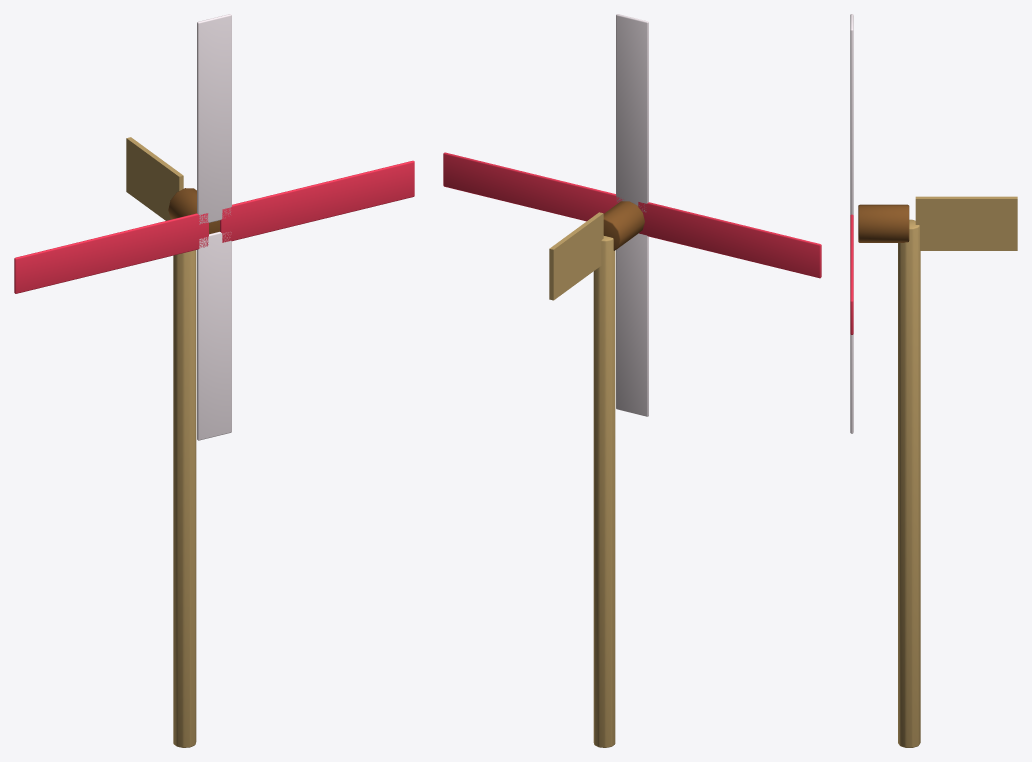
The model's file is kincir-angin.glb.
3 views of the same model, side by side, from view 1: azimuth 30°, elevation 25°; view 2: azimuth 150°, elevation 25°; view 3: azimuth 270°, elevation 25° (orthographic). The views are drawn at different scales.
Parts seen in each view (by area): view 1: Cylinder, Cube.002, Cube, Cube.001, Cube.003, Cube.004, Cylinder.001; view 2: Cylinder, Cube.002, Cube.001, Cube, Cube.003, Cube.004, Cylinder.001; view 3: Cylinder, Cube.004, Cylinder.001, Cube.001, Cube, Cube.003.
Part boxes in pixels (x1=…): Cylinder: x1=173, y1=250, x2=196, y2=747; Cube.002: x1=14, y1=213, x2=208, y2=293; Cube: x1=220, y1=160, x2=414, y2=242; Cube.001: x1=197, y1=14, x2=231, y2=224; Cube.003: x1=197, y1=231, x2=231, y2=440; Cube.004: x1=126, y1=137, x2=183, y2=220; Cylinder.001: x1=168, y1=188, x2=219, y2=234; Cylinder: x1=593, y1=236, x2=615, y2=747; Cube.002: x1=638, y1=202, x2=821, y2=278; Cube.001: x1=616, y1=14, x2=648, y2=212; Cube: x1=443, y1=152, x2=623, y2=221; Cube.003: x1=616, y1=233, x2=648, y2=416; Cube.004: x1=549, y1=212, x2=603, y2=300; Cylinder.001: x1=603, y1=201, x2=644, y2=250; Cylinder: x1=898, y1=219, x2=920, y2=747; Cube.004: x1=915, y1=196, x2=1017, y2=250; Cylinder.001: x1=858, y1=204, x2=909, y2=242; Cube.001: x1=850, y1=14, x2=853, y2=214; Cube: x1=850, y1=214, x2=853, y2=334; Cube.003: x1=850, y1=334, x2=853, y2=433.
Bounding box in the file's own units: 7 × 12.5 × 2.62.
